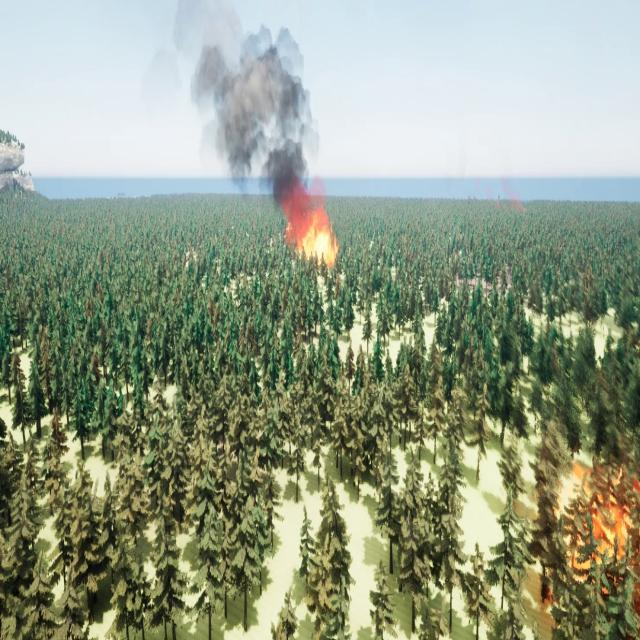fire: (554, 454, 640, 580), (300, 216, 340, 266)
smoke: (173, 0, 327, 236)
